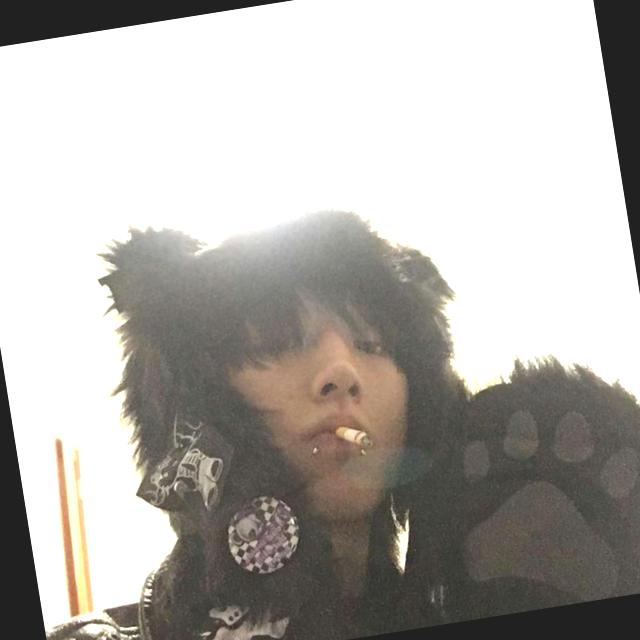cigarette: (322, 411, 382, 454)
